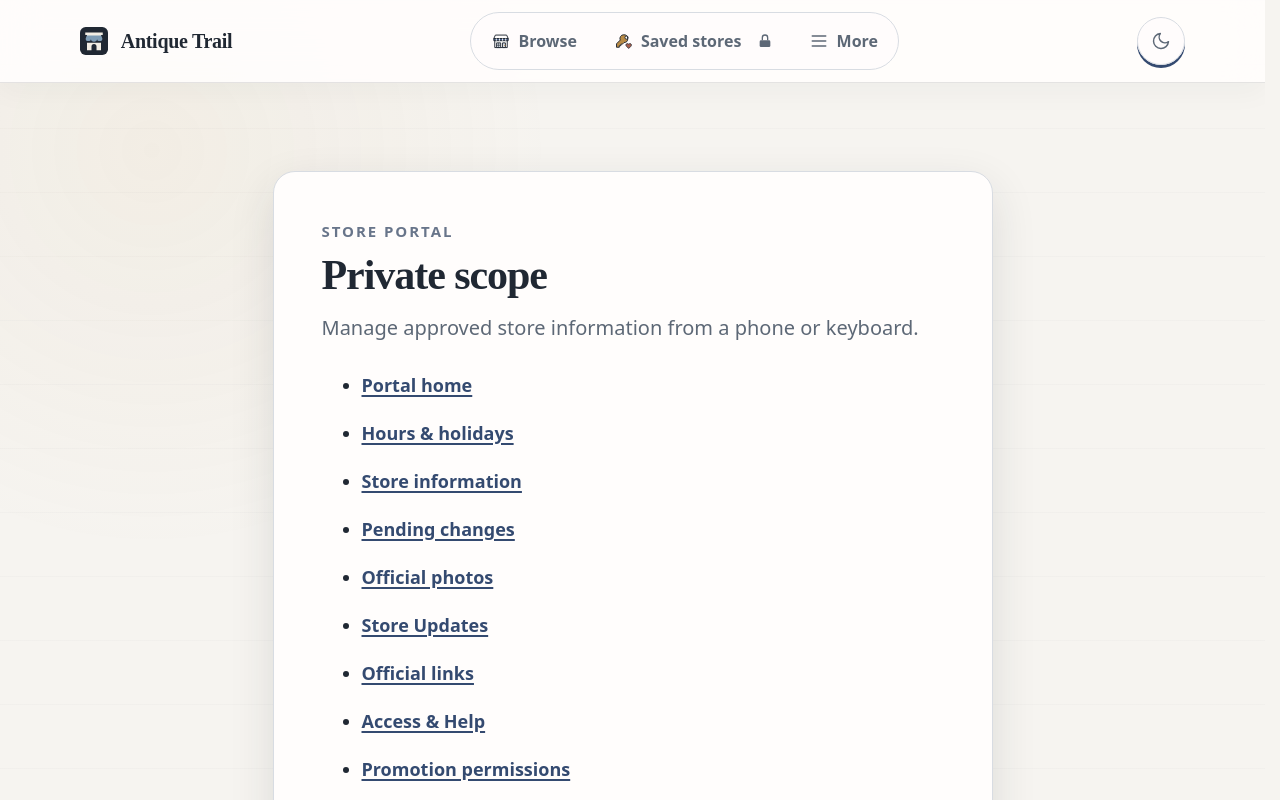
Test: app shell › removes the scoped workspace when the next route check denies the same session
Check: the heading "Private scope" is shown, box x1=322 y1=252 x2=547 y2=298
Click the link "Pending changes". click: click(438, 529)
box: x1=362 y1=517 x2=515 y2=541
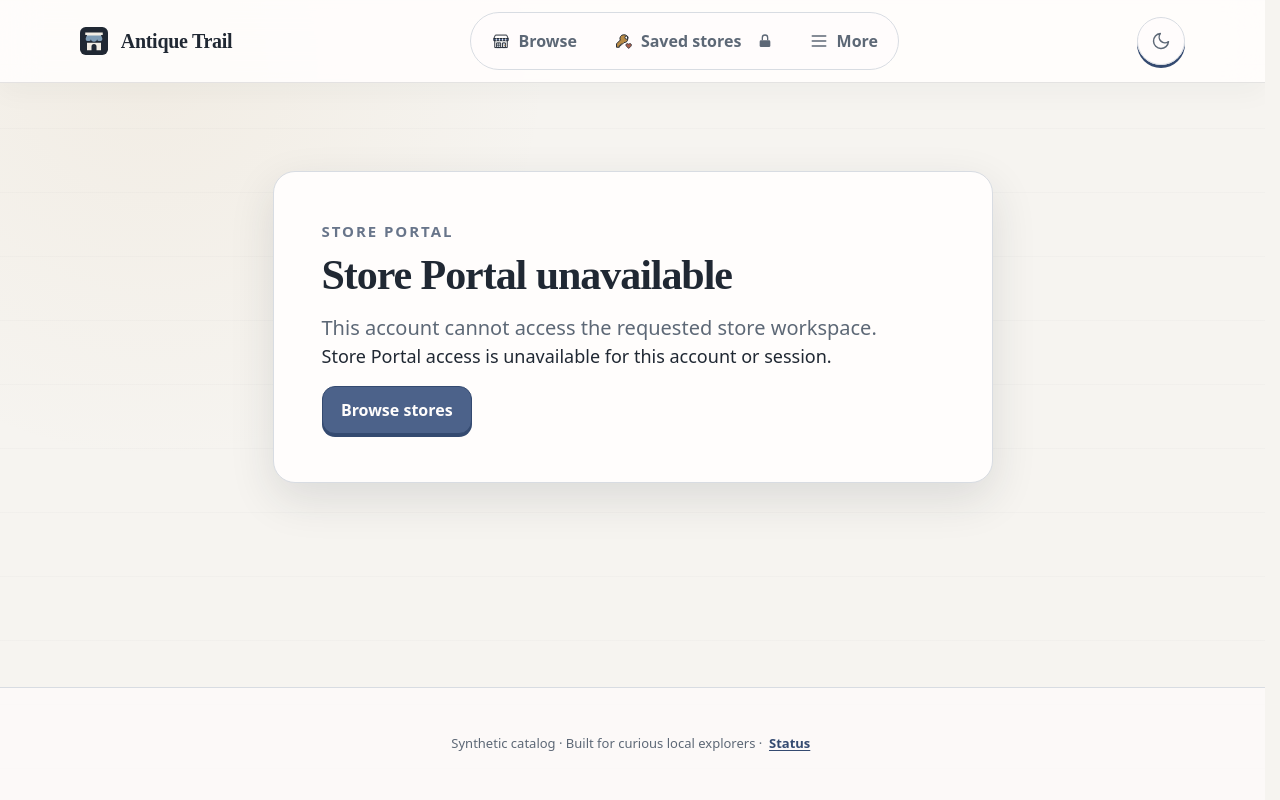
Check: the message shows "access is unavailable", box x1=322 y1=344 x2=832 y2=368
Check: the heading "Private scope" is gone
